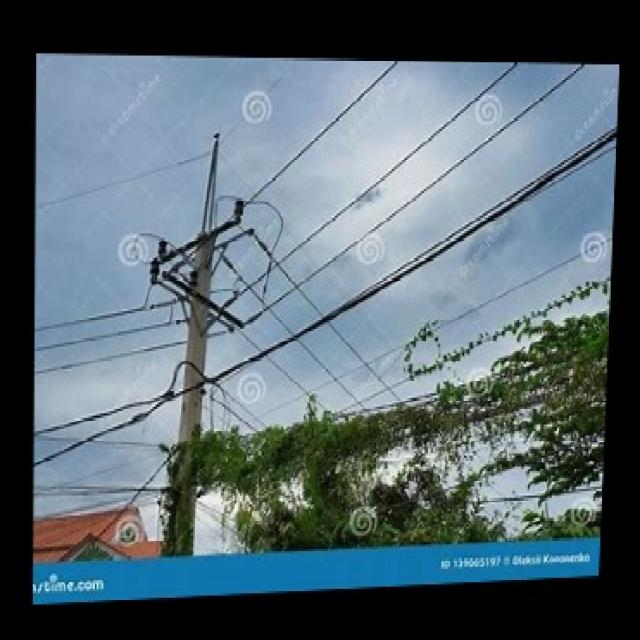critical vegetation: (188, 366, 602, 526)
